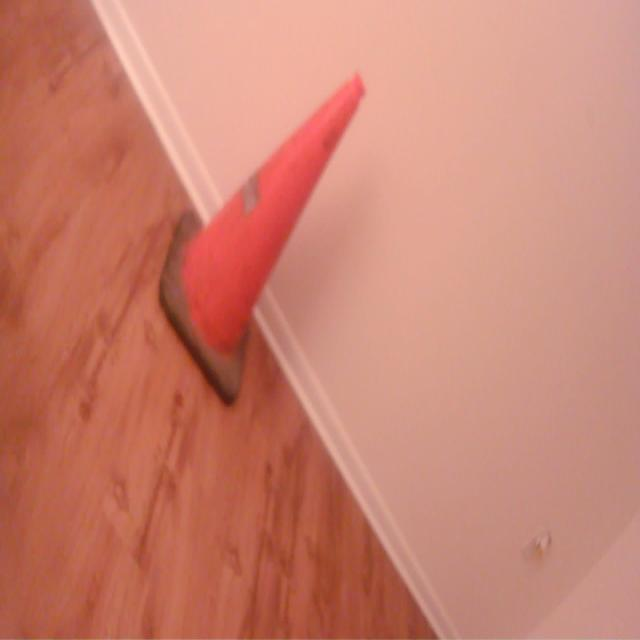traffic cone: (157, 69, 369, 413)
